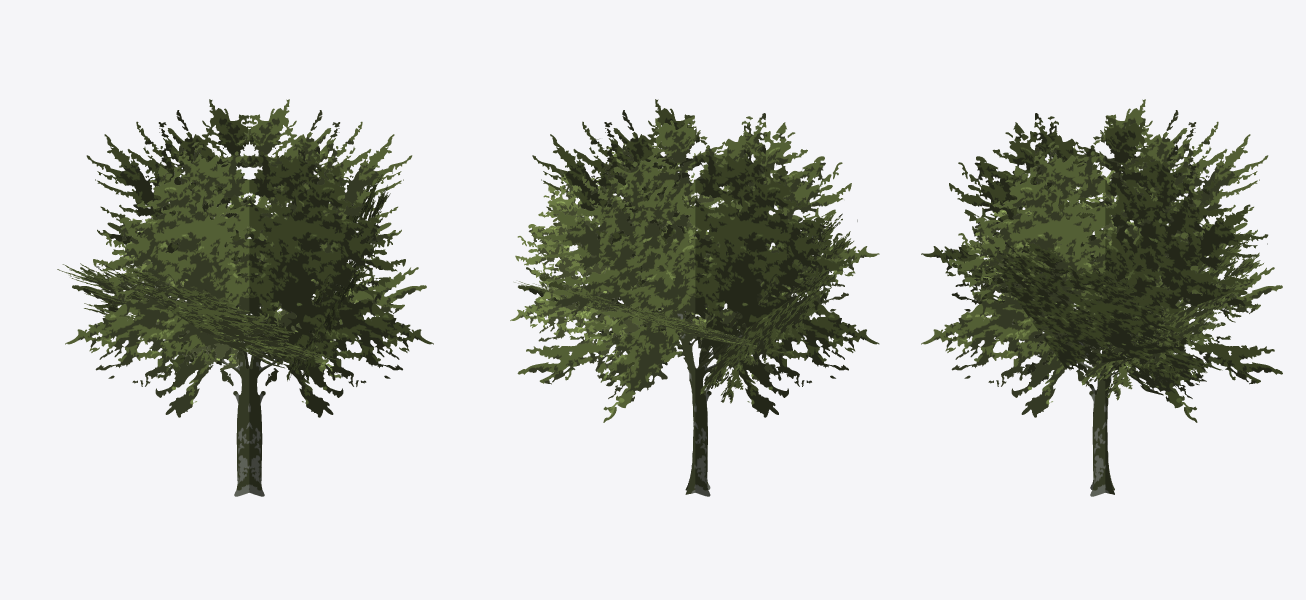
Rendered from elm.glb.
3 views of the same model, side by side, from view 1: azimuth 30°, elevation 25°; view 2: azimuth 150°, elevation 25°; view 3: azimuth 270°, elevation 25° (orthographic).
Parts seen in each view (by area): view 1: Plane_002, Plane, Plane_004, Plane_005, Plane_003; view 2: Plane_001, Plane, Plane_005, Plane_004, Plane_003; view 3: Plane_002, Plane_001, Plane_005, Plane_003, Plane_004.
Part boxes in pixels (x1,y1,x2,y2): Plane_002: (72,99,433,496); Plane: (65,99,426,496); Plane_004: (57,263,335,368); Plane_005: (286,169,392,383); Plane_003: (119,194,375,370); Plane_001: (517,113,879,494); Plane: (518,99,879,496); Plane_005: (510,136,733,368); Plane_004: (698,213,857,403); Plane_003: (514,281,793,355); Plane_002: (921,99,1282,496); Plane_001: (921,113,1282,494); Plane_005: (960,238,1222,395); Plane_003: (1081,232,1267,400); Plane_004: (965,147,1220,365).
Size of the model in its own units: 13.23 by 12.8 by 11.35.
2 materials, 2 textured.
